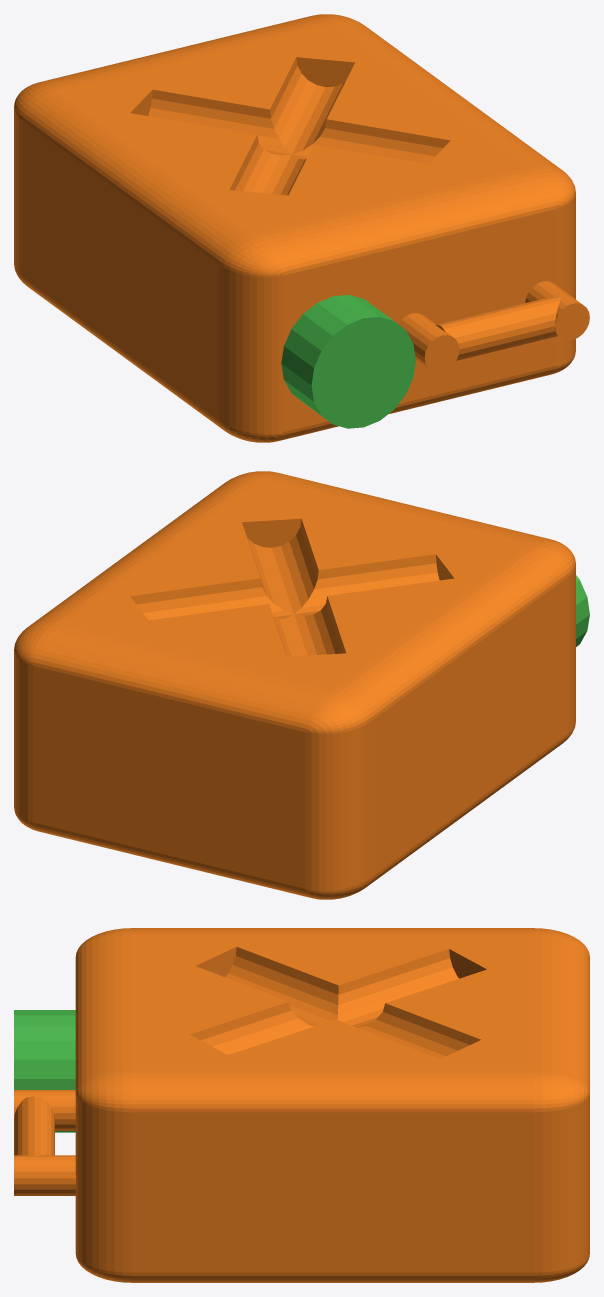
Rendered from Fuel.obj.
3 renders of one model, top to bottom at view 1: azimuth 30°, elevation 25°; view 2: azimuth 150°, elevation 25°; view 3: azimuth 270°, elevation 25°, orthographic. The views are drawn at different scales.
Parts seen in each view (by area): view 1: group_0_16089887, group_0_4634441; view 2: group_0_16089887, group_0_4634441; view 3: group_0_16089887, group_0_4634441.
Part boxes in pixels (box(x1,y1,x2,y2)): group_0_16089887: box(14, 14, 589, 442); group_0_4634441: box(281, 295, 415, 428); group_0_16089887: box(14, 471, 575, 899); group_0_4634441: box(576, 575, 589, 646); group_0_16089887: box(14, 928, 589, 1282); group_0_4634441: box(14, 1010, 75, 1132).
Size of the model in its own units: 20 by 11 by 28.
